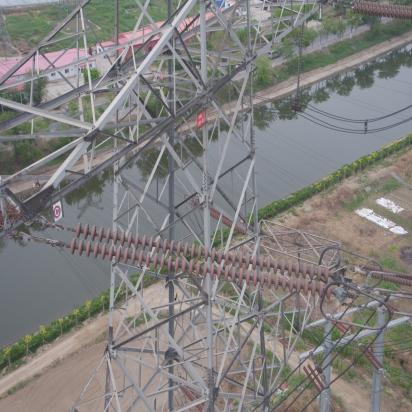insulator: (55, 223, 339, 301)
